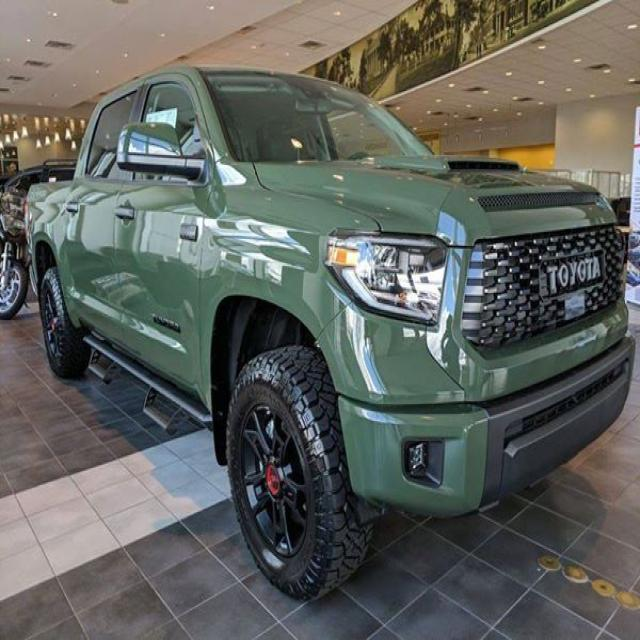Pickup Trucks: (25, 68, 632, 603)
